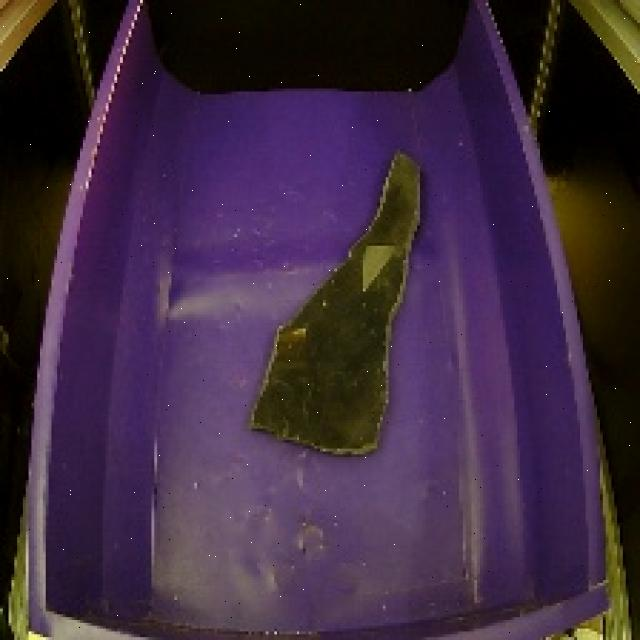china: (238, 135, 436, 459)
